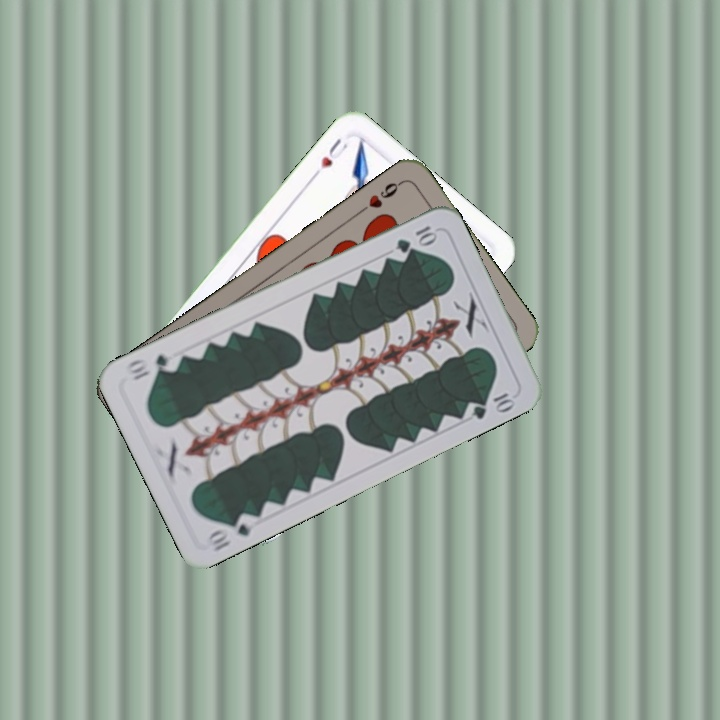G10: (204, 509, 260, 554), (391, 221, 440, 256)
H9: (354, 177, 405, 217)
HU: (308, 134, 351, 180)
